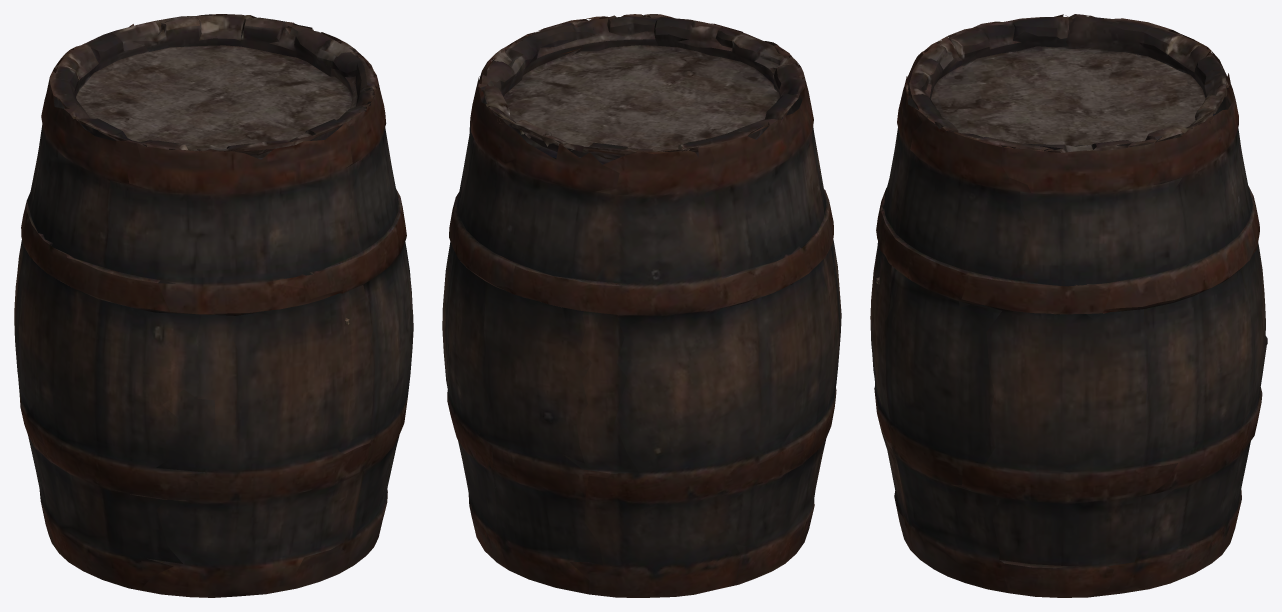
File: barrel.glb
3 renders of one model, left to right at view 1: azimuth 30°, elevation 25°; view 2: azimuth 150°, elevation 25°; view 3: azimuth 270°, elevation 25°, orthographic.
Bounding box in the file's own units: 0.7992 × 0.998 × 0.8036.
Materials: 1 (1 with a texture image).
